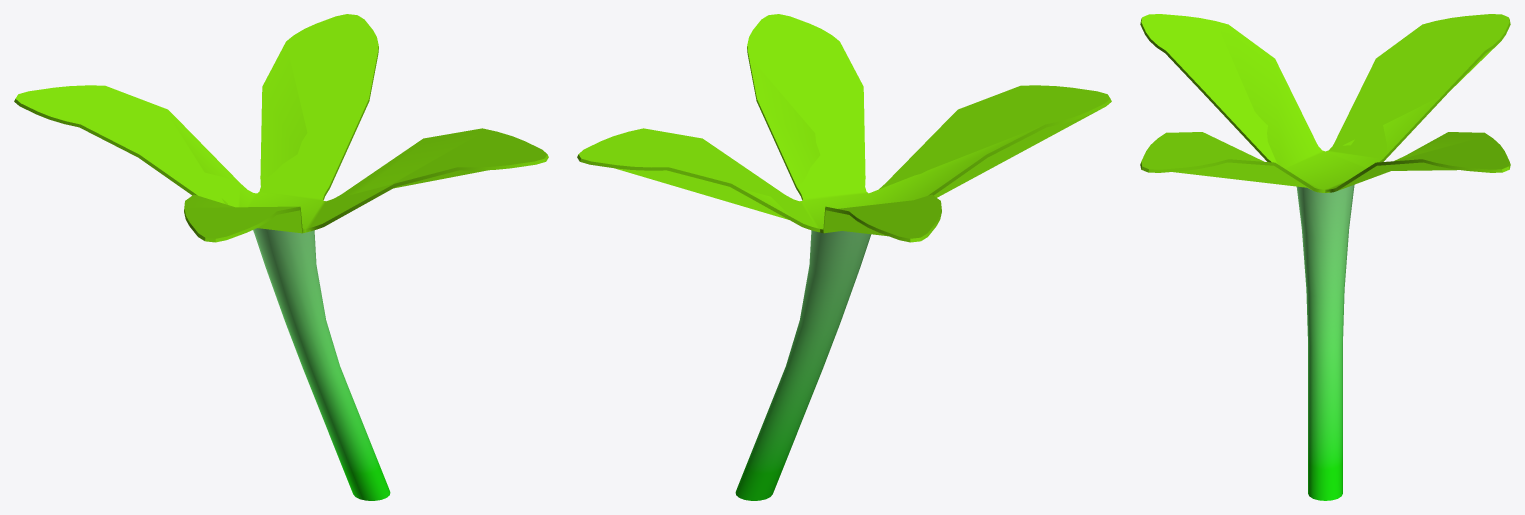
Rendered from flower_004.fbx.
3 renders of one model, left to right at view 1: azimuth 30°, elevation 25°; view 2: azimuth 150°, elevation 25°; view 3: azimuth 270°, elevation 25°, orthographic. The views are drawn at different scales.
Parts seen in each view (by area): view 1: Circle.002; view 2: Circle.002; view 3: Circle.002.
Part boxes in pixels (x1,y1,x2,y2): Circle.002: (14,14,548,500); Circle.002: (577,14,1111,500); Circle.002: (1140,14,1510,500).
Bounding box in the file's own units: 17.68 × 19.01 × 17.68.
Materials: 2 (1 with a texture image).
